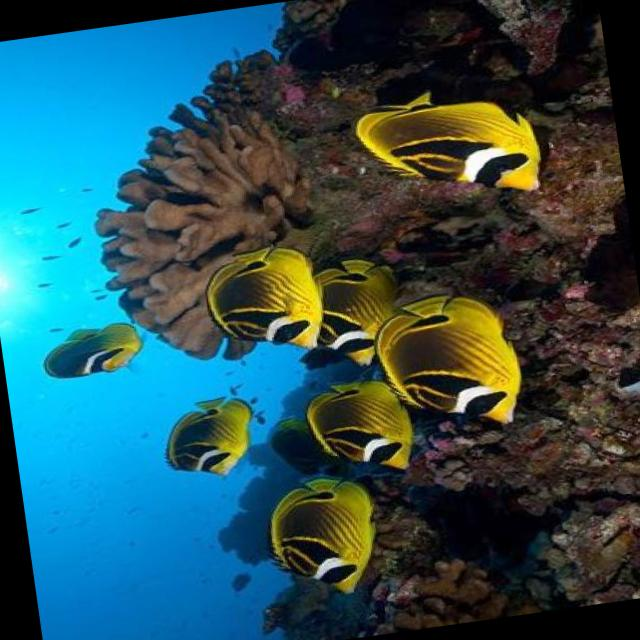ButterflyFish: (353, 266, 544, 474), (345, 72, 558, 219), (199, 230, 342, 388), (283, 356, 414, 501), (259, 461, 392, 602), (304, 248, 409, 374), (23, 306, 146, 403), (161, 394, 257, 497)
